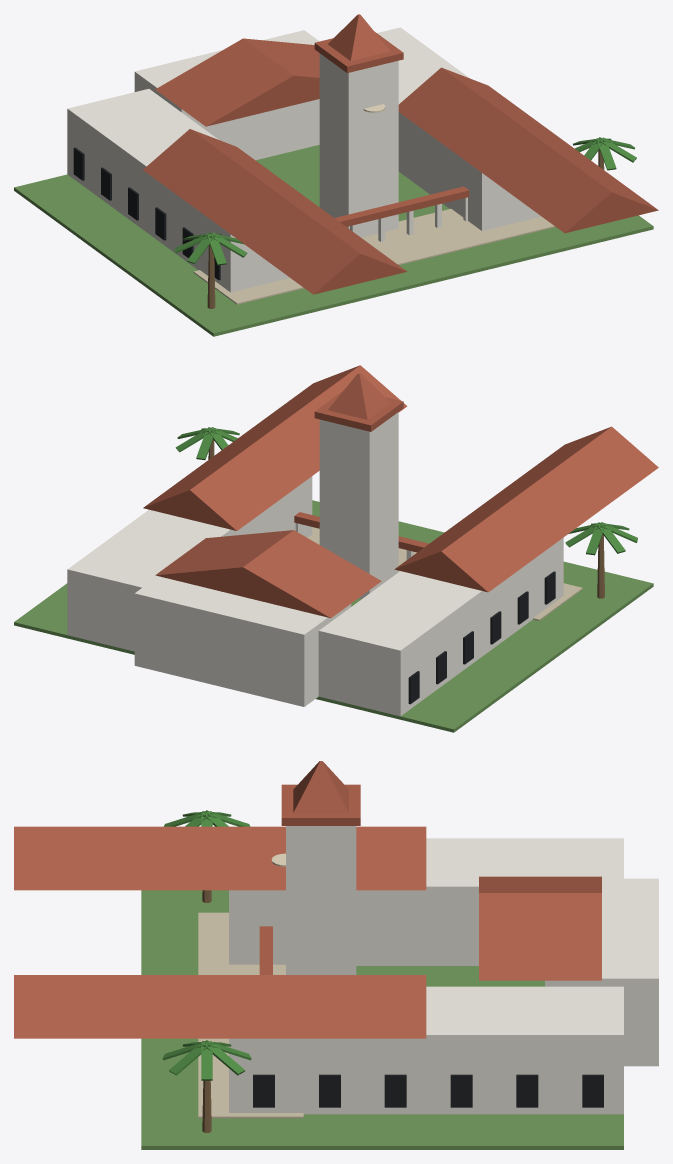
3 views of the same model, one above another, from view 1: azimuth 30°, elevation 25°; view 2: azimuth 150°, elevation 25°; view 3: azimuth 270°, elevation 25° (orthographic). The views are drawn at different scales.
Parts seen in each view (by area): view 1: ug_roof_tile, ug_white, ug_grass, ug_plaza, ug_leaf, ug_black, ug_trunk; view 2: ug_white, ug_roof_tile, ug_grass, ug_leaf, ug_black, ug_plaza, ug_trunk; view 3: ug_white, ug_roof_tile, ug_grass, ug_black, ug_plaza, ug_leaf, ug_trunk.
Part boxes in pixels (x1,y1,x2,y2): ug_roof_tile: [143, 14, 658, 294]; ug_white: [67, 27, 541, 292]; ug_grass: [14, 145, 653, 336]; ug_plaza: [193, 209, 555, 304]; ug_leaf: [174, 137, 636, 265]; ug_black: [73, 147, 220, 280]; ug_trunk: [207, 149, 604, 308]; ug_white: [67, 412, 563, 716]; ug_roof_tile: [143, 365, 658, 618]; ug_grass: [14, 500, 653, 732]; ug_leaf: [175, 427, 637, 555]; ug_black: [408, 571, 555, 704]; ug_plaza: [308, 527, 582, 620]; ug_trunk: [208, 439, 604, 598]; ug_white: [229, 826, 658, 1114]; ug_roof_tile: [14, 761, 601, 1038]; ug_grass: [141, 890, 623, 1149]; ug_black: [253, 1074, 603, 1107]; ug_plaza: [198, 912, 303, 1118]; ug_leaf: [162, 810, 251, 1080]; ug_trunk: [202, 890, 211, 1132].
Bounding box in the file's own units: 144 × 65 × 147.
